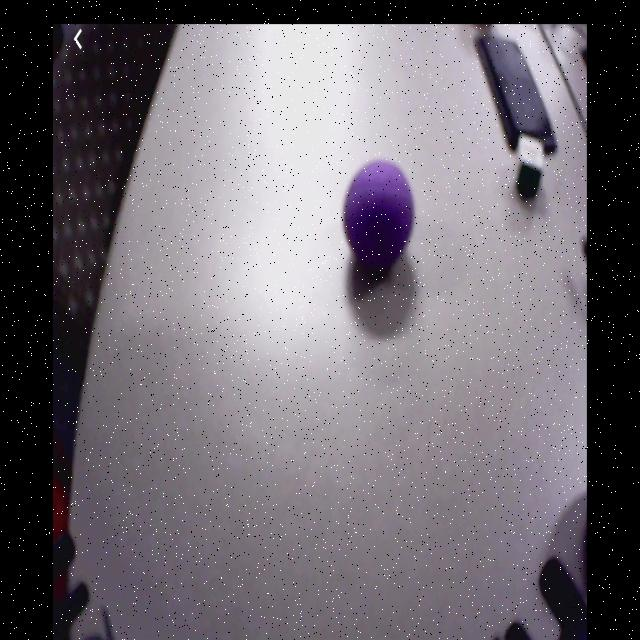ball: (342, 157, 415, 277)
